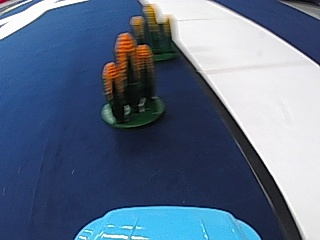corn: (98, 27, 162, 130), (128, 1, 179, 63)
